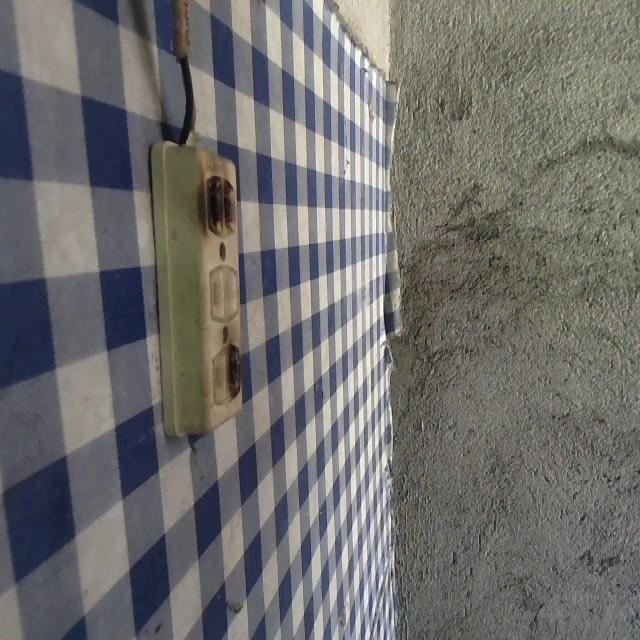-: (199, 166, 240, 242), (226, 338, 243, 398)
